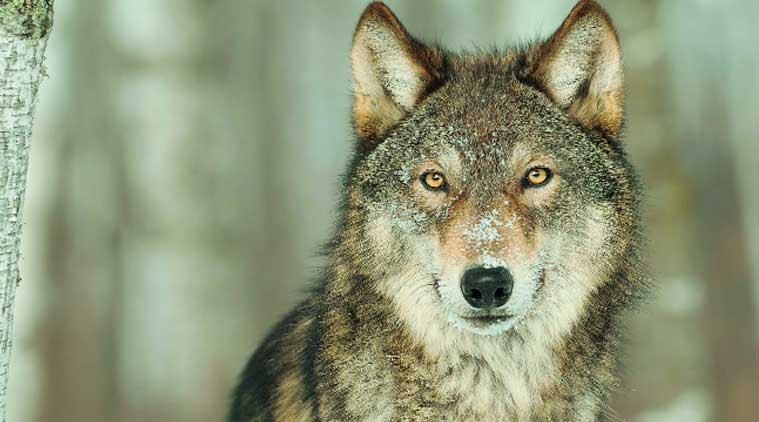wolf: (221, 1, 649, 422)
